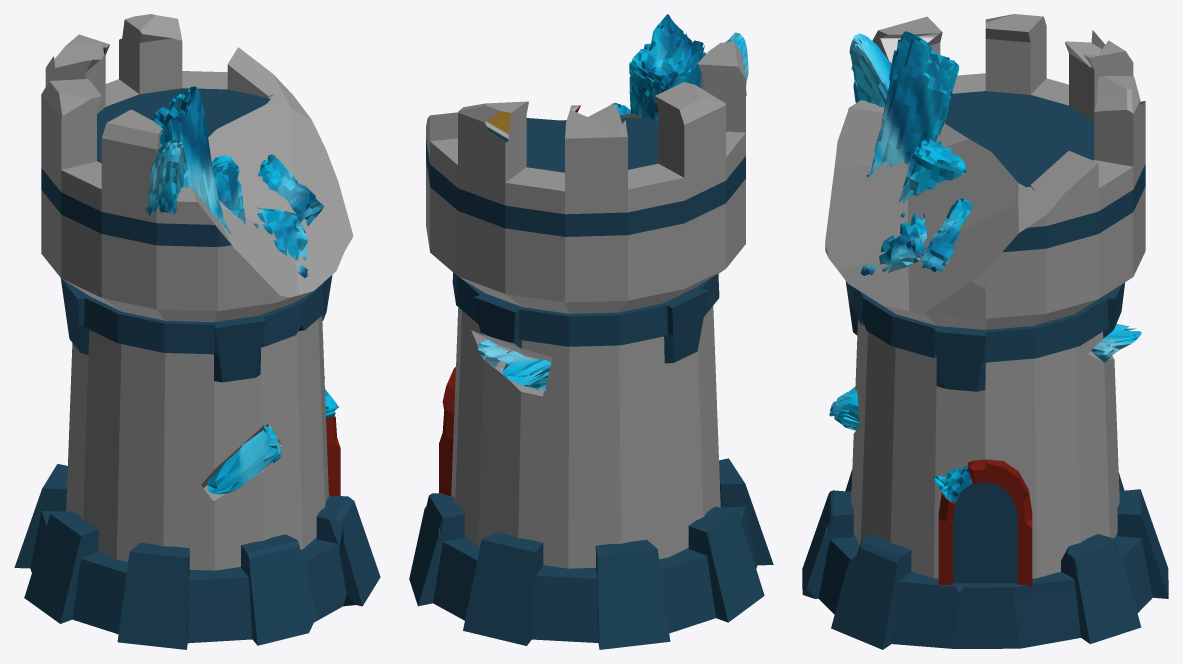
File: tour_ruines_v1.fbx
3 views of the same model, side by side, from view 1: azimuth 30°, elevation 25°; view 2: azimuth 150°, elevation 25°; view 3: azimuth 270°, elevation 25° (orthographic). The views are drawn at different scales.
Visible parts, largest first — view 1: tower; view 2: tower; view 3: tower.
Boxes of the visible parts, x1=… form: tower: x1=14, y1=14, x2=380, y2=649; tower: x1=409, y1=14, x2=773, y2=649; tower: x1=802, y1=14, x2=1168, y2=649.
Size of the model in its own units: 254 by 434 by 271.
